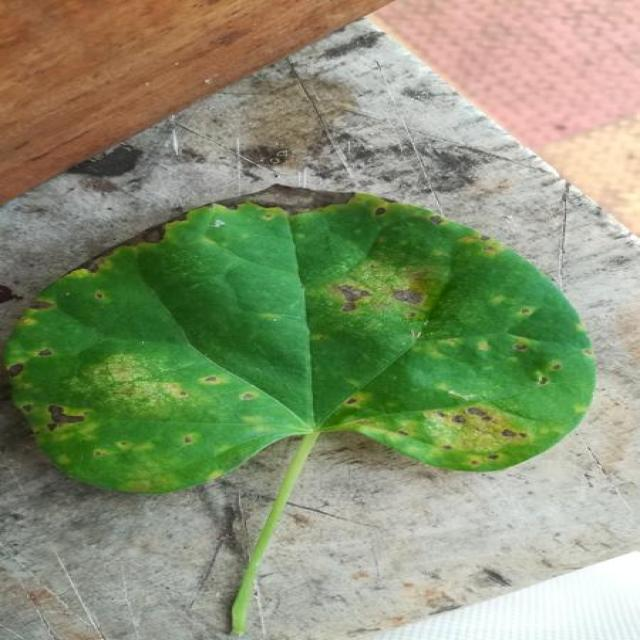Amruthaballi: (7, 195, 595, 499)
defectedAmruthaballi: (23, 152, 593, 491)
disease in leaf: (7, 194, 595, 499)
